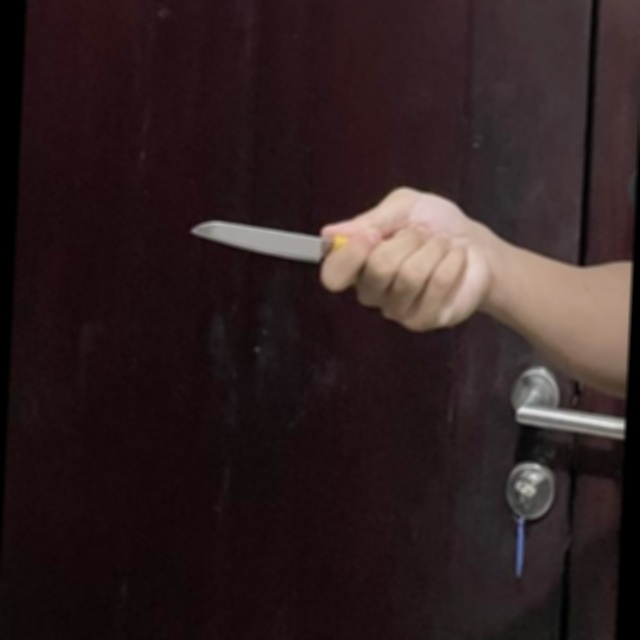Sharp-Object: (187, 217, 391, 272)
